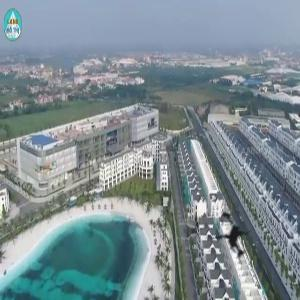drone: (183, 191, 282, 290)
